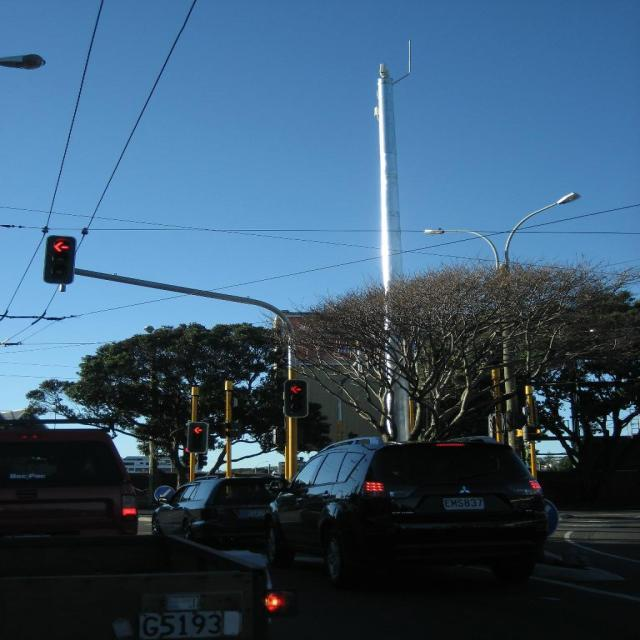traffic light: (40, 231, 80, 290), (284, 378, 311, 422), (184, 420, 207, 452)
